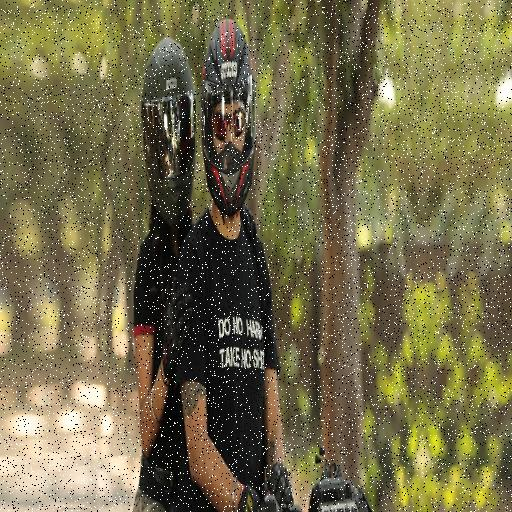Helmet: (136, 45, 209, 231), (197, 30, 263, 212)
